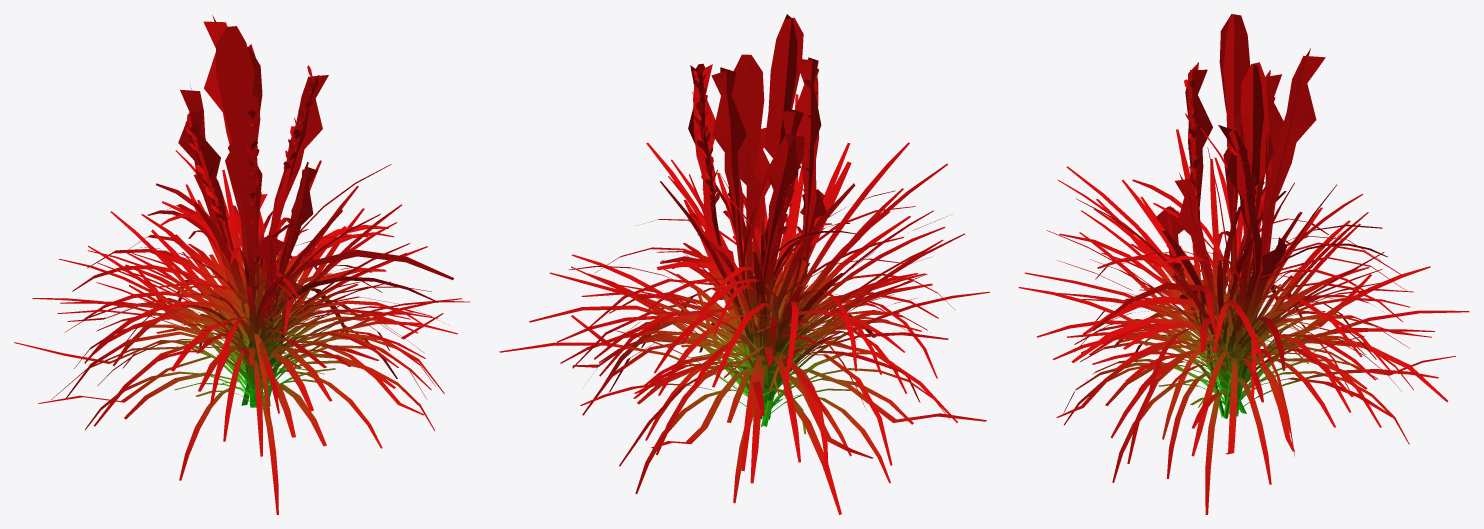
File: Var1_LOD2.fbx
3 renders of one model, left to right at view 1: azimuth 30°, elevation 25°; view 2: azimuth 150°, elevation 25°; view 3: azimuth 270°, elevation 25°, orthographic. The views are drawn at different scales.
Parts seen in each view (by area): view 1: _79c9_Var1_LOD2; view 2: _79c9_Var1_LOD2; view 3: _79c9_Var1_LOD2.
Part boxes in pixels (x1,y1,x2,y2): _79c9_Var1_LOD2: [14, 15, 470, 514]; _79c9_Var1_LOD2: [499, 14, 989, 514]; _79c9_Var1_LOD2: [1018, 14, 1469, 514].
Size of the model in its own units: 48.81 by 48.56 by 47.44.
